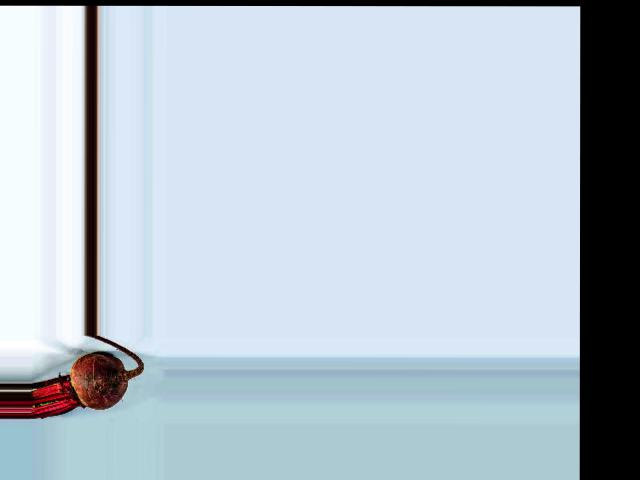beet: (29, 335, 143, 419)
